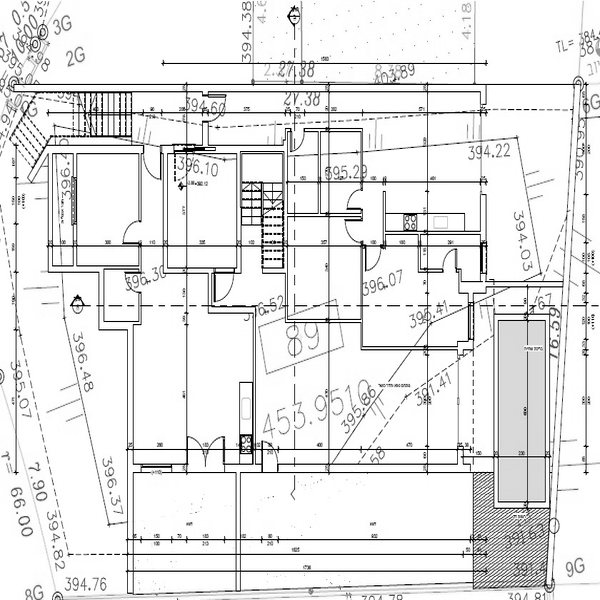door: (184, 427, 232, 466), (207, 270, 247, 308), (257, 434, 283, 483), (120, 214, 155, 250), (136, 144, 165, 183), (205, 91, 236, 124), (121, 264, 151, 294), (341, 214, 368, 245), (360, 245, 385, 272), (289, 124, 308, 159), (439, 247, 462, 274), (344, 183, 366, 211)
room: (249, 304, 473, 475), (121, 312, 259, 473), (278, 119, 367, 324), (34, 142, 148, 275), (358, 239, 471, 360), (157, 137, 251, 274)
